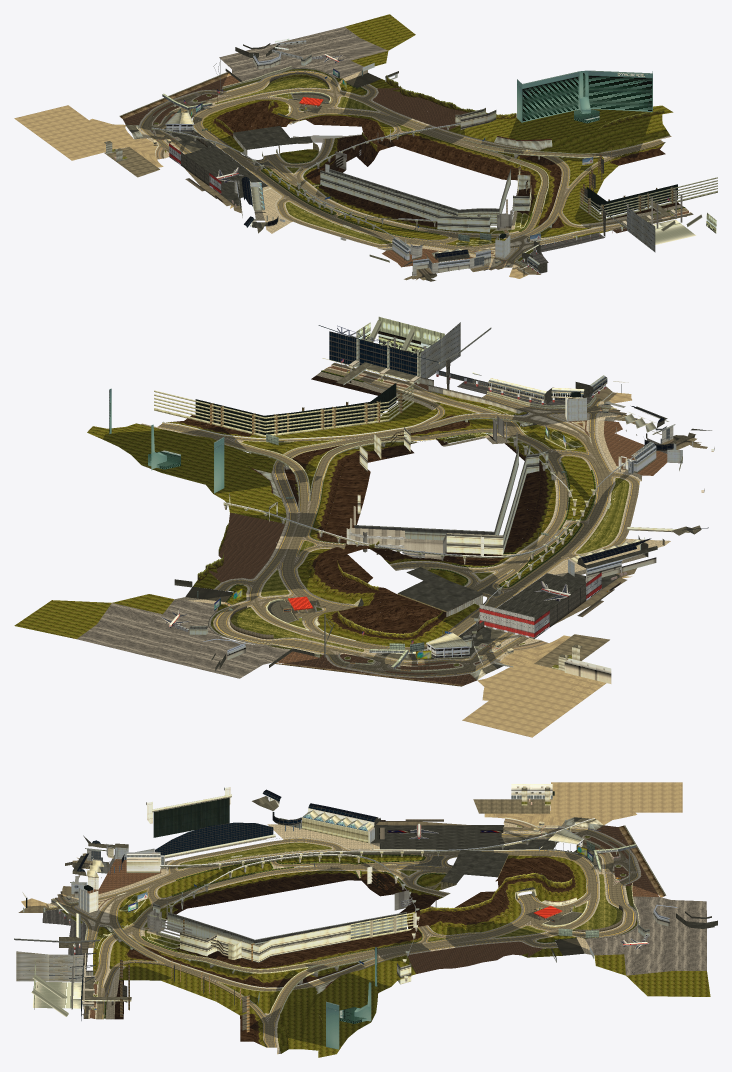
File: track-B2_C2_V1.glb
3 views of the same model, one above another, from view 1: azimuth 30°, elevation 25°; view 2: azimuth 150°, elevation 25°; view 3: azimuth 270°, elevation 25° (orthographic). The views are drawn at different scales.
Parts seen in each view (by area): view 1: B2_C2_V1; view 2: B2_C2_V1; view 3: B2_C2_V1.
Part boxes in pixels (<box>): B2_C2_V1: <box>14,14,717,281</box>; B2_C2_V1: <box>14,317,714,737</box>; B2_C2_V1: <box>14,782,717,1057</box>.
Bounding box in the file's own units: 1295 × 129 × 1379.
Materials: 93 (93 with a texture image).
